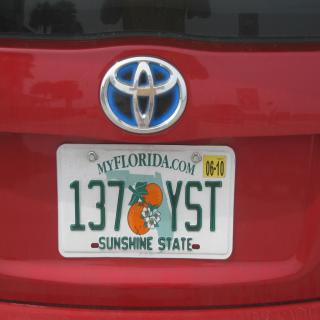license: (58, 147, 235, 261)
